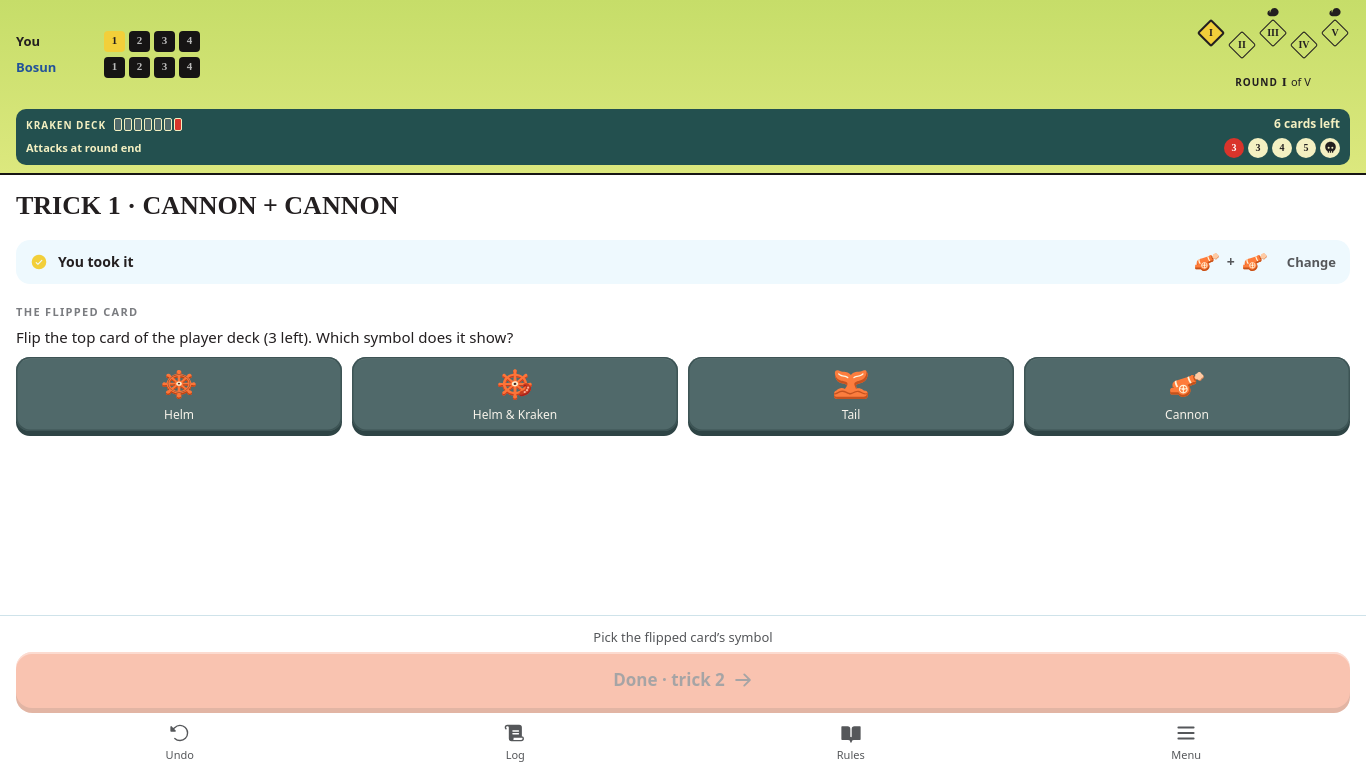
Test: cannon + cannon (C6) › asks for the flipped card, one flip at a time while it shows a cannon
Expected: the heading reads "TRICK 1 · CANNON + CANNON", top-left (16, 191), bottom-right (398, 220)
Expected: the text "Pick the flipped card’s symbol" is shown, top-left (593, 628), bottom-right (773, 646)
Click the button "Cannon".
click(1187, 394)  # box top-left (1024, 357), bottom-right (1350, 431)
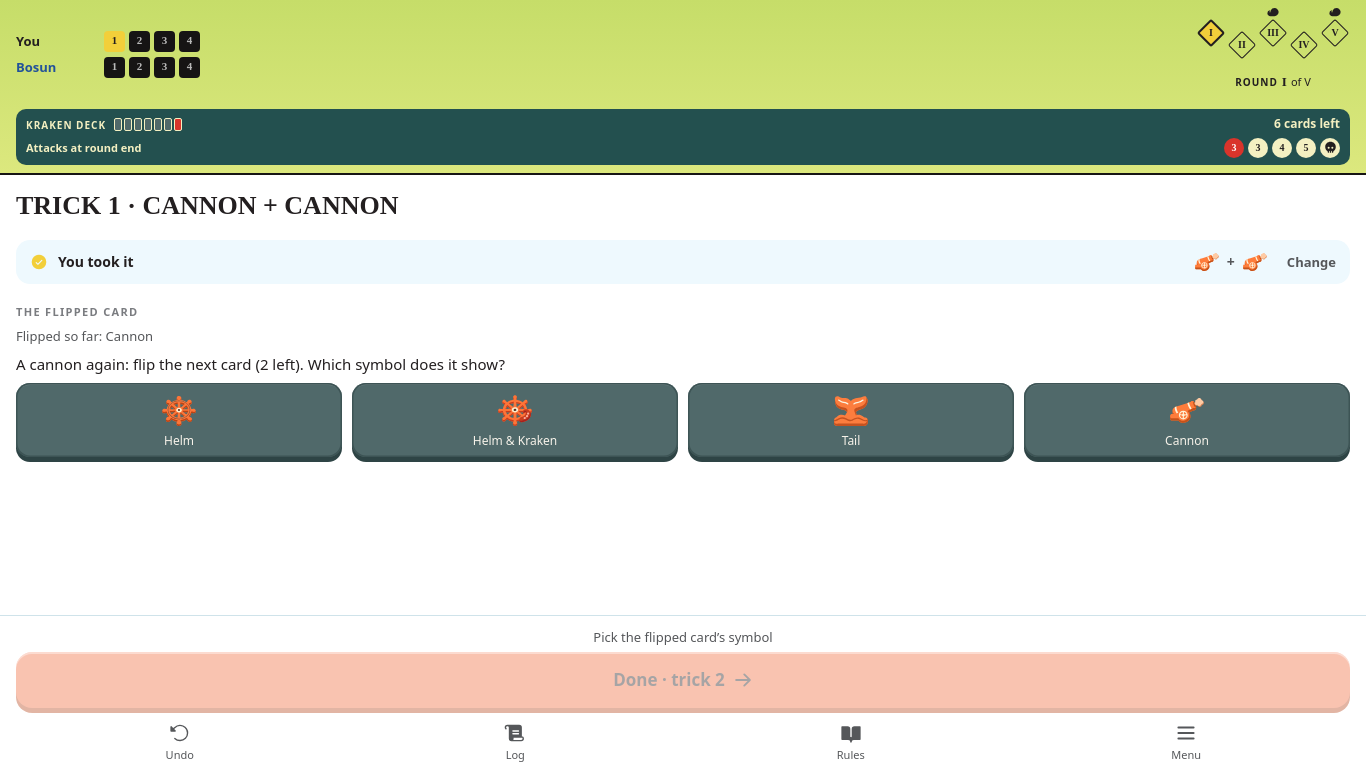
Now the text "Flipped so far: Cannon" is shown, box top-left (16, 328), bottom-right (153, 346)
Click the button "Tail".
click(851, 420)  # box top-left (688, 383), bottom-right (1014, 457)
(page scrolled)
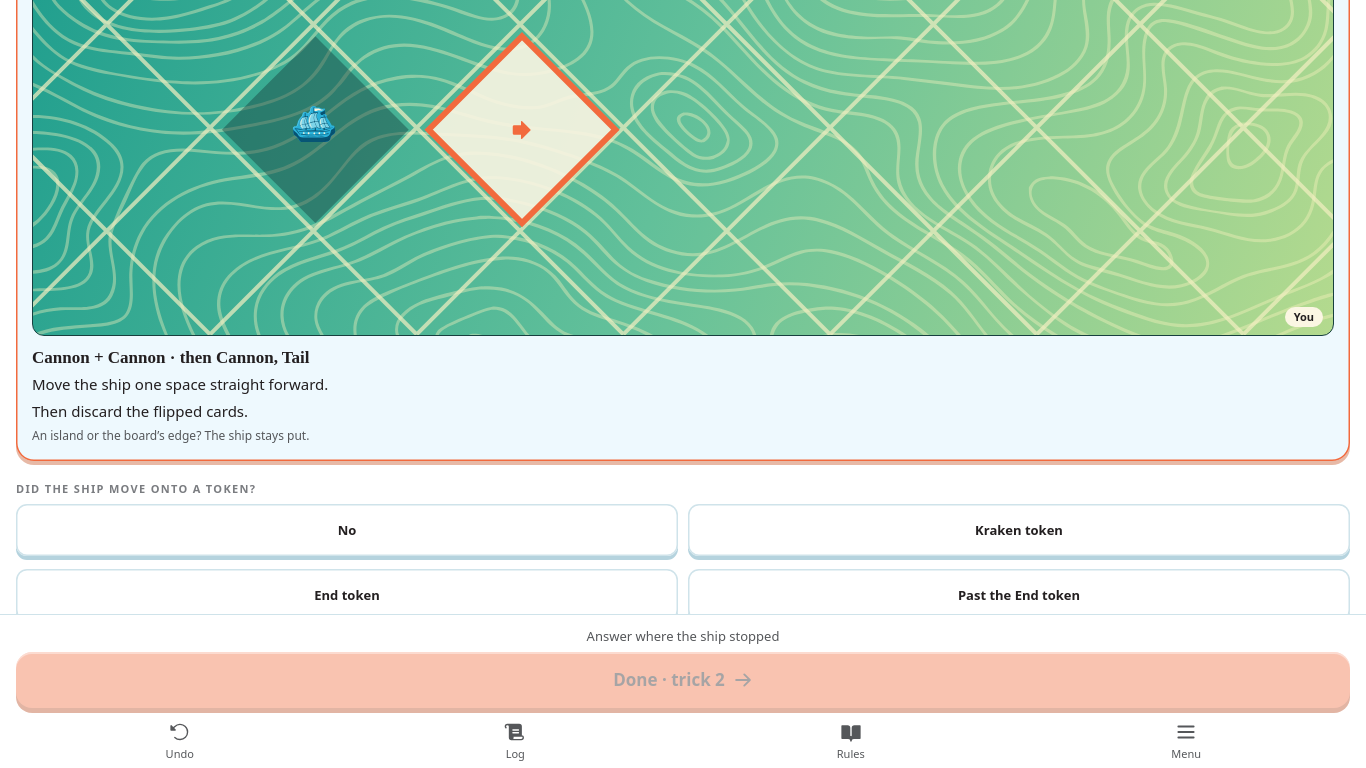
Now the text "Move the ship one space straight forward." is shown, box top-left (32, 374), bottom-right (328, 394)
